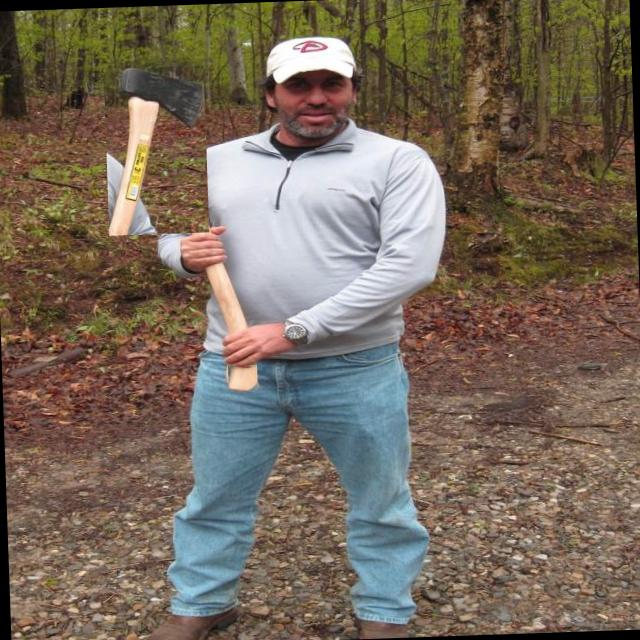Axe: (109, 68, 204, 235), (207, 263, 246, 331), (228, 365, 257, 390)
